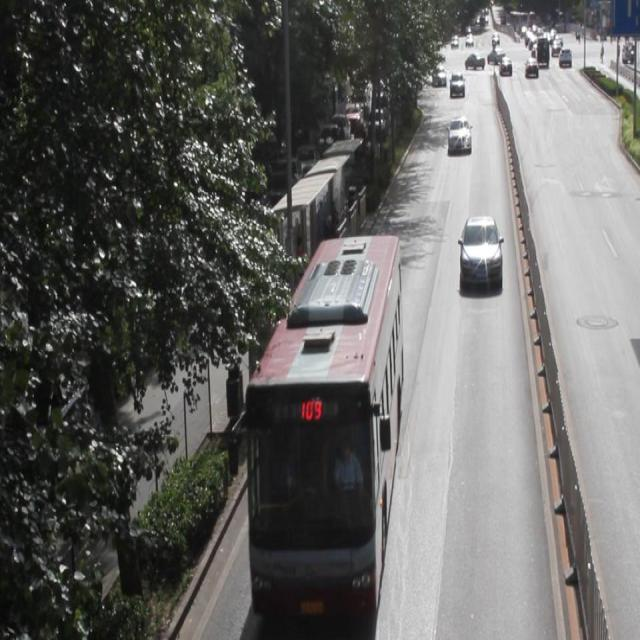car: (458, 214, 501, 280), (446, 116, 471, 151)
van: (247, 234, 399, 606)
